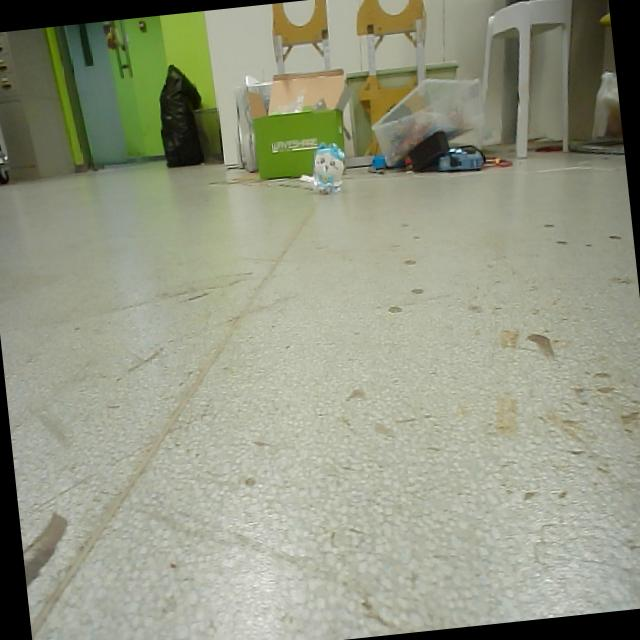xiaoba: (306, 136, 349, 200)
